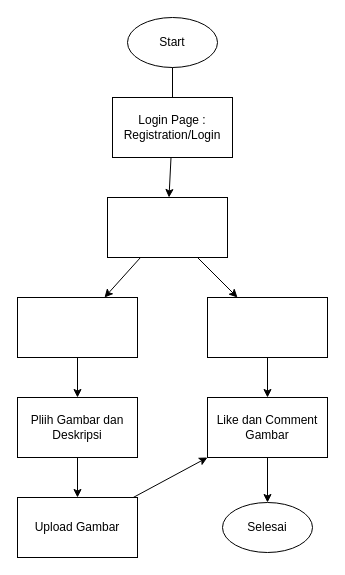
Image size: 345x575. Some labels were removed from this diagram. The shapes that lost their labels are listed below. From the top down, each one's box as (x1, y1, x2, y2) in pixels, then its label:
(106, 196, 228, 258): Home Page
(16, 296, 138, 358): Posting Gambar
(206, 296, 328, 358): View & Search Gambar
